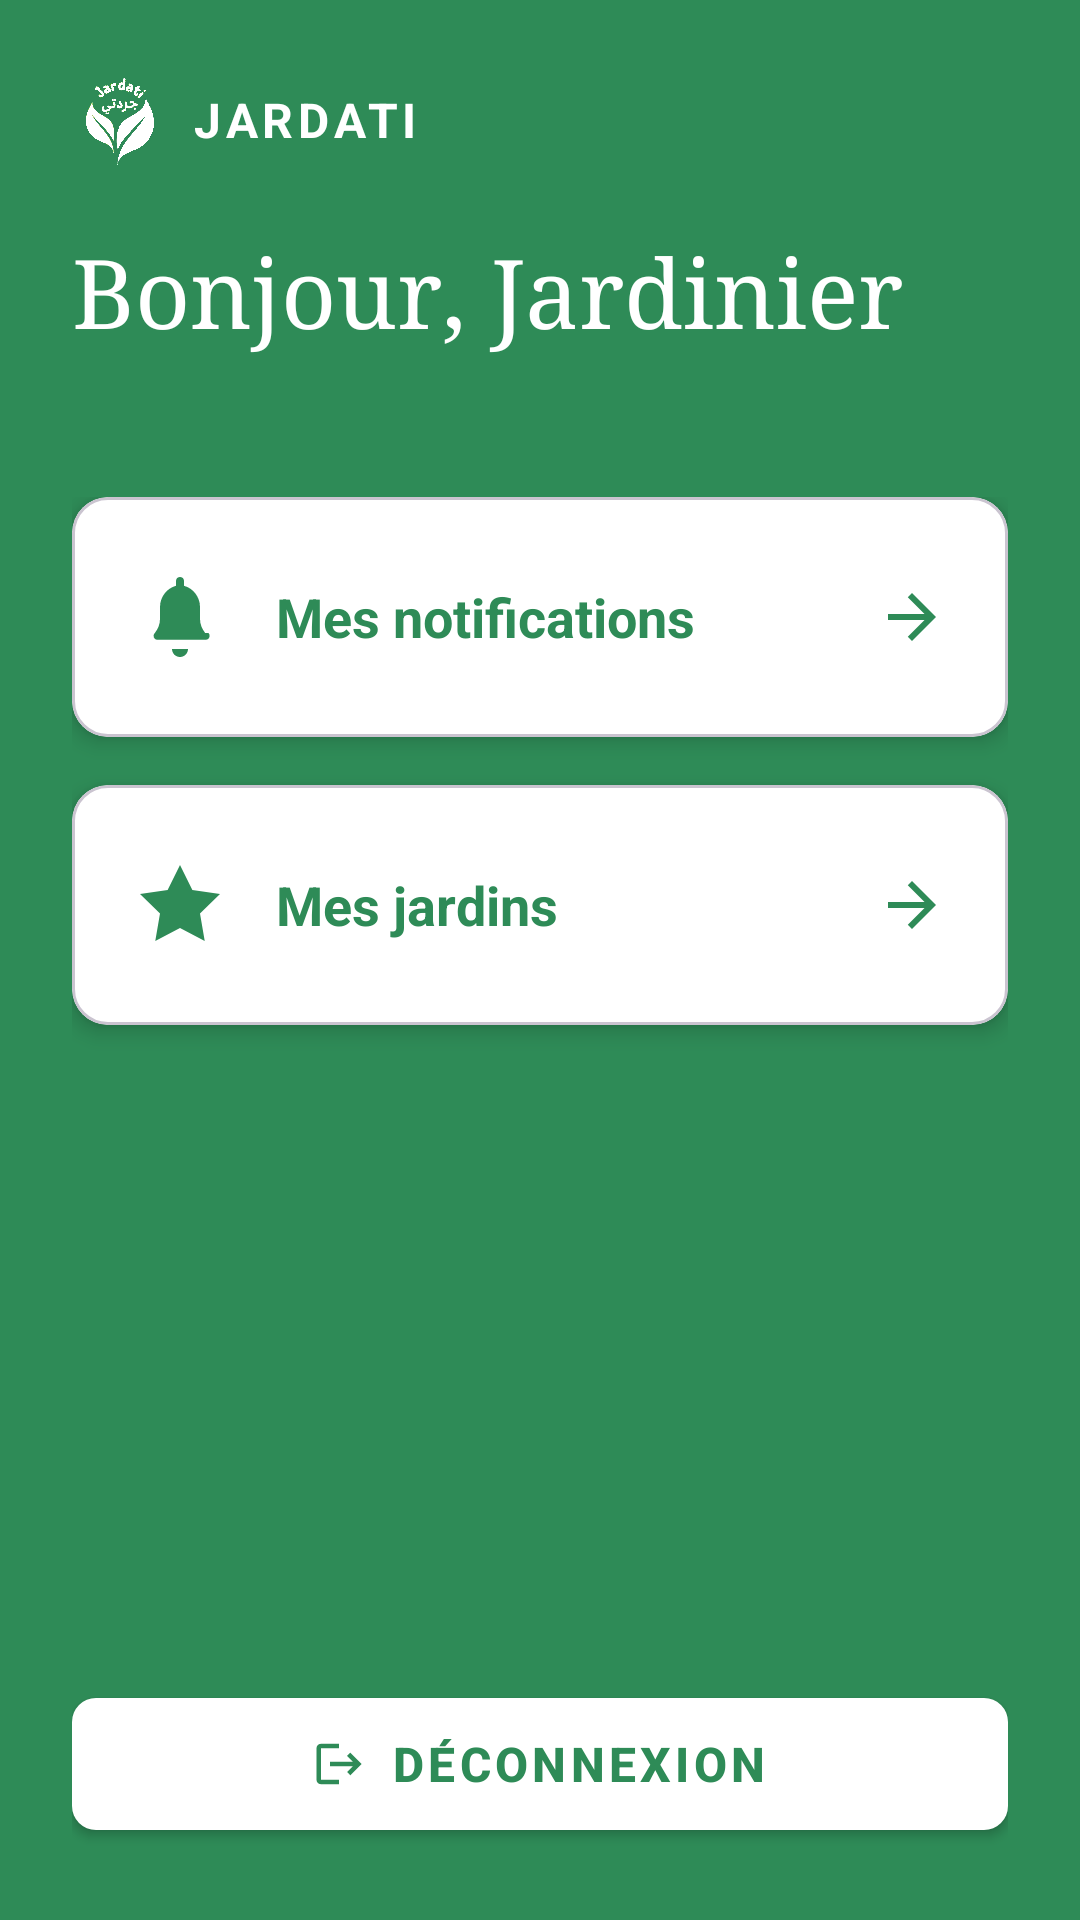

Icons on this 1080px x 1920px Android screen, each with its box as rect(x1, y1, x2, y2):
arrow forward: rect(888, 593, 936, 641), rect(888, 881, 936, 929)
